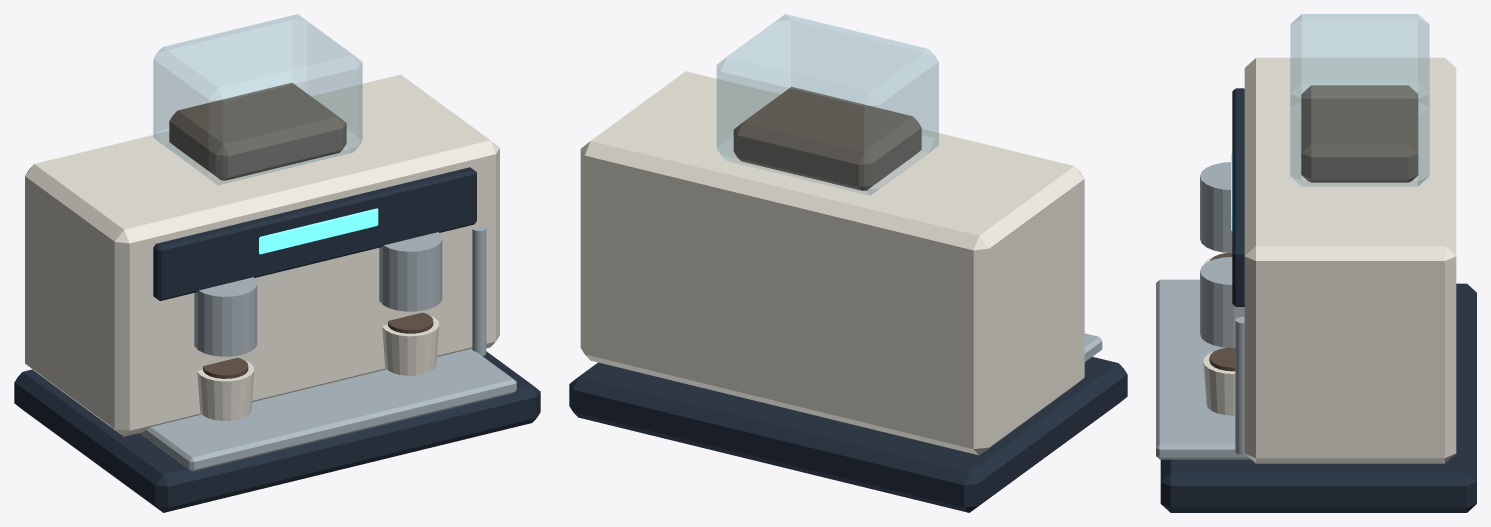
File: restaurant_02.glb
The picture shows the model from 3 angles, left to right: view 1: azimuth 30°, elevation 25°; view 2: azimuth 150°, elevation 25°; view 3: azimuth 270°, elevation 25°; orthographic projection. The views are drawn at different scales.
Visible parts, largest first — view 1: EspressoBody, BeanHopper, EspressoBase, DripTray, ControlFront, Beans, GroupHead (×2), Cup (×2), ControlGlow, SteamWand, Coffee (×2); view 2: EspressoBody, EspressoBase, BeanHopper, Beans; view 3: EspressoBody, BeanHopper, EspressoBase, Beans, DripTray, GroupHead (×2), ControlFront, Cup, SteamWand, Coffee.
Boxes of the visible parts, box(x1,y1,x2,y2) form: EspressoBody: box(25, 74, 499, 436); BeanHopper: box(153, 14, 362, 184); EspressoBase: box(14, 351, 540, 512); DripTray: box(140, 348, 516, 471); ControlFront: box(153, 167, 476, 300); Beans: box(169, 82, 346, 180); GroupHead (×2): box(194, 232, 442, 356); Cup (×2): box(197, 315, 439, 420); ControlGlow: box(259, 208, 378, 254); SteamWand: box(472, 226, 486, 355); Coffee (×2): box(203, 312, 433, 378); EspressoBody: box(580, 71, 1084, 455); EspressoBase: box(569, 357, 1127, 512); BeanHopper: box(716, 14, 938, 195); Beans: box(733, 86, 921, 190); EspressoBody: box(1244, 57, 1456, 463); BeanHopper: box(1290, 14, 1429, 186); EspressoBase: box(1160, 283, 1476, 512); Beans: box(1301, 85, 1418, 182); DripTray: box(1156, 279, 1250, 459); GroupHead (×2): box(1200, 162, 1244, 347); ControlFront: box(1232, 88, 1244, 306); Cup: box(1203, 352, 1235, 415); SteamWand: box(1235, 316, 1245, 454); Coffee: box(1209, 347, 1235, 371).
Size of the model in its own units: 0.74 by 0.645 by 0.5075.
